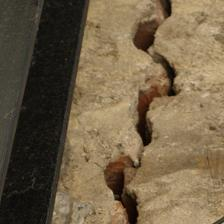Crack: (102, 4, 182, 221)
